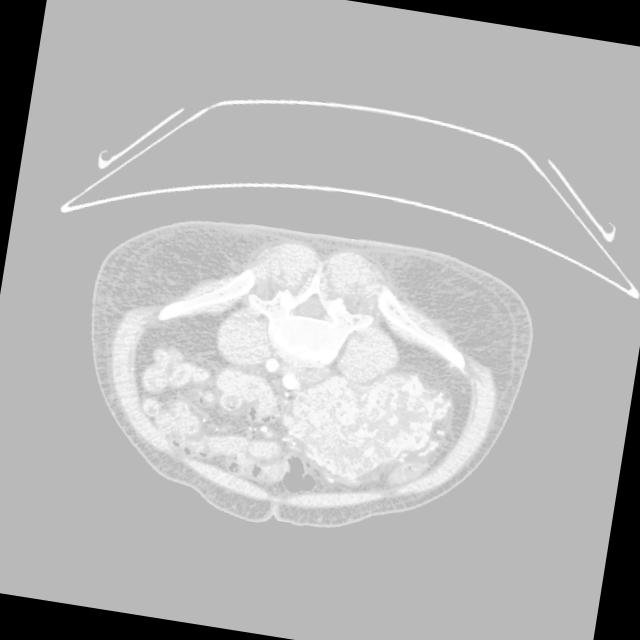TUMOR: (114, 301, 459, 544)
